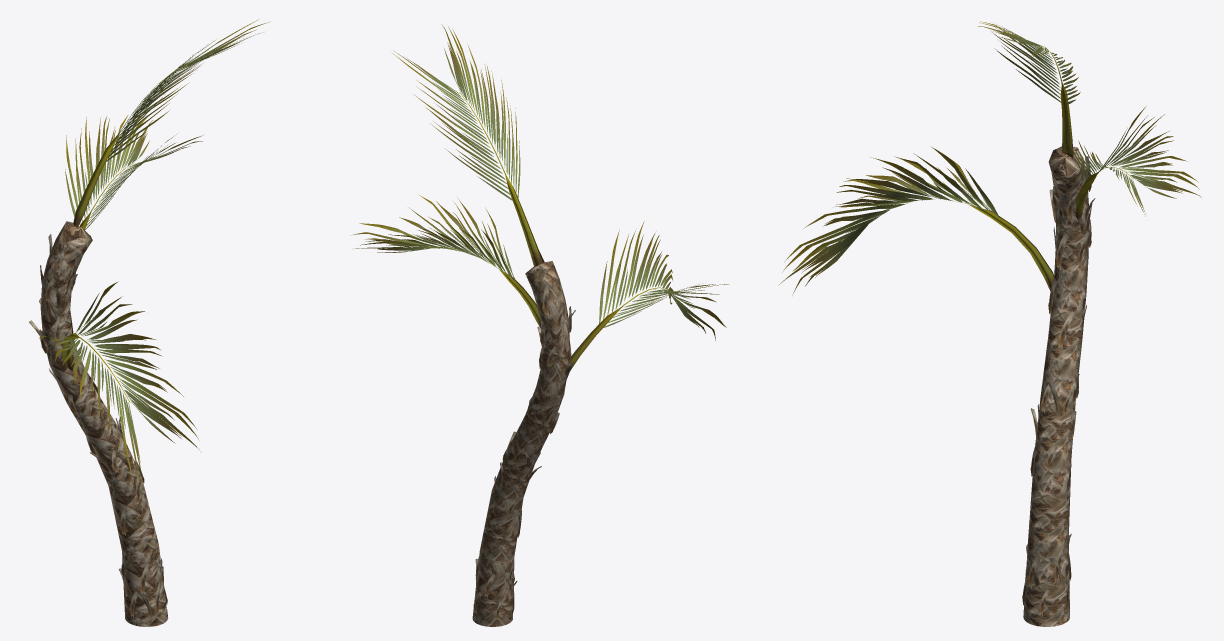
File: Palmeighty.obj
3 views of the same model, side by side, from view 1: azimuth 30°, elevation 25°; view 2: azimuth 150°, elevation 25°; view 3: azimuth 270°, elevation 25° (orthographic). The views are drawn at different scales.
Parts seen in each view (by area): view 1: curly palm leaf, palm07, barkpalm, frond stem; view 2: curly palm leaf, palm07, barkpalm, frond stem; view 3: palm07, curly palm leaf, barkpalm, frond stem.
Part boxes in pixels (x1,y1,x2,y2): curly palm leaf: (39, 19, 270, 490); palm07: (40, 221, 168, 626); barkpalm: (29, 234, 167, 618); frond stem: (62, 132, 119, 370); curly palm leaf: (350, 24, 728, 340); palm07: (472, 261, 569, 626); barkpalm: (473, 284, 575, 619); frond stem: (499, 172, 623, 370); palm07: (1023, 146, 1088, 626); curly palm leaf: (778, 21, 1201, 295); barkpalm: (1022, 156, 1095, 615); frond stem: (969, 82, 1098, 291).
Size of the model in its own units: 137 by 250 by 155.
Materials: 4 (4 with a texture image).
